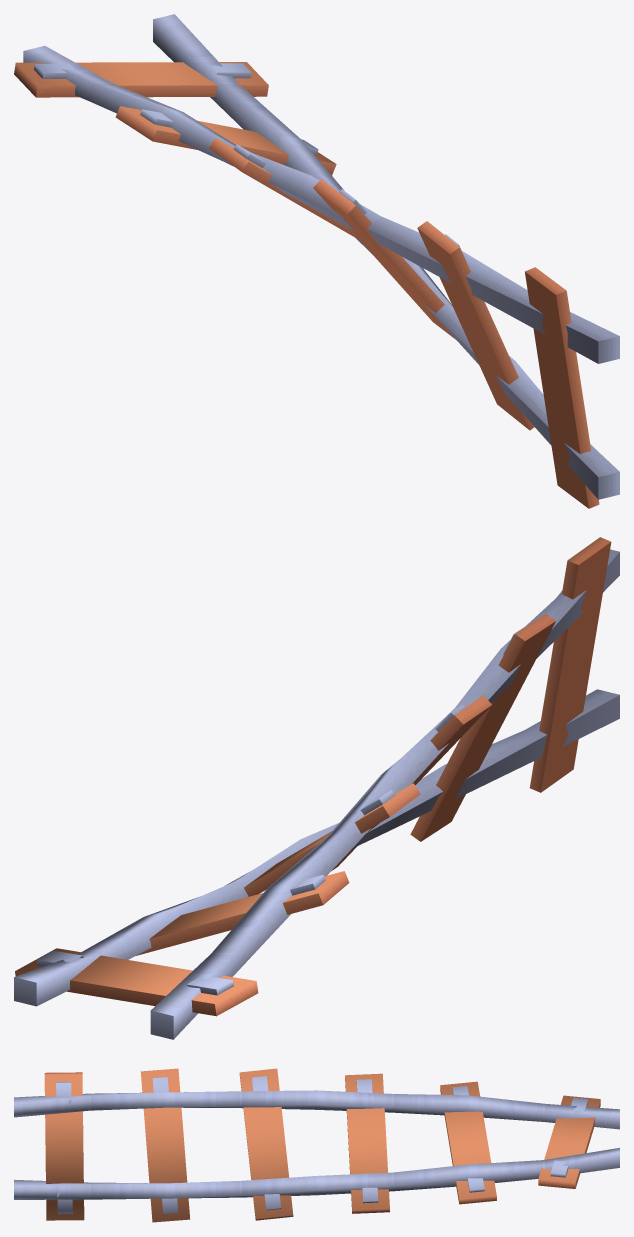
File: railroad-damaged-straight-skew-left-side.glb
The picture shows the model from 3 angles, top to bottom: view 1: azimuth 30°, elevation 25°; view 2: azimuth 150°, elevation 25°; view 3: azimuth 270°, elevation 25°; orthographic projection. The views are drawn at different scales.
Visible parts, largest first — view 1: railroad-damaged-straight-skew-left-side; view 2: railroad-damaged-straight-skew-left-side; view 3: railroad-damaged-straight-skew-left-side.
Boxes of the visible parts, x1,y1,x2,y2 form: railroad-damaged-straight-skew-left-side: (14,14,619,508); railroad-damaged-straight-skew-left-side: (14,537,619,1039); railroad-damaged-straight-skew-left-side: (14,1068,619,1222).
Bounding box in the file's own units: 1.02 × 0.9981 × 4.
Materials: 1 (1 with a texture image).
